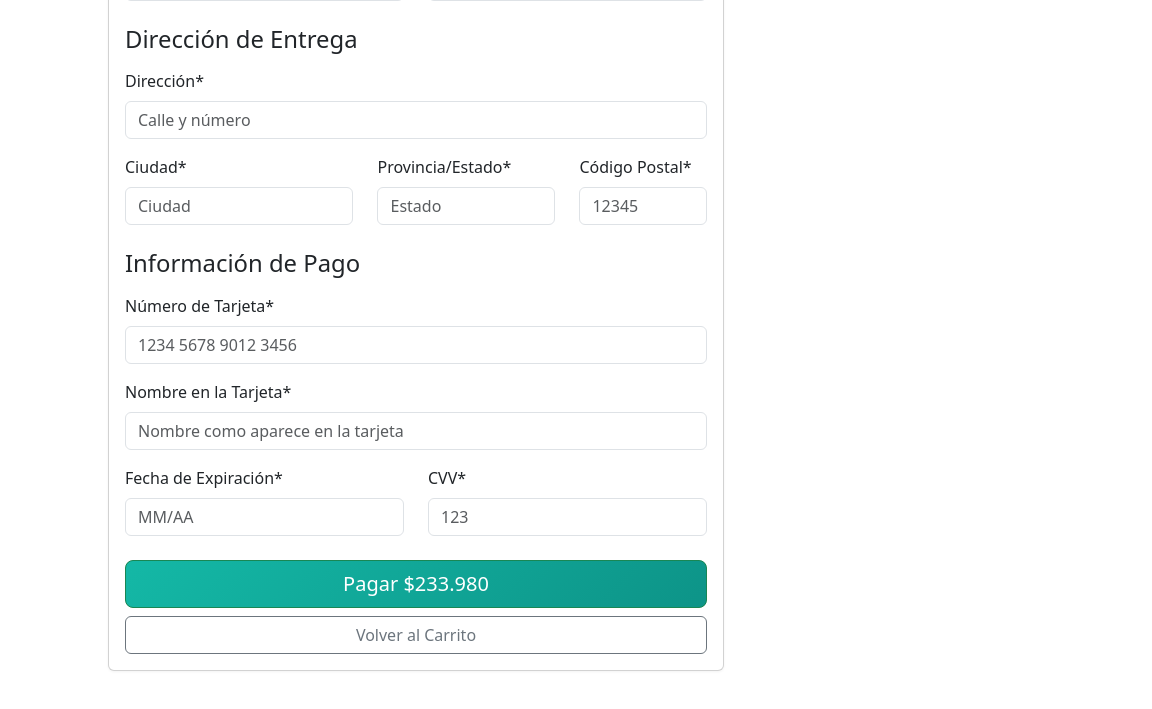
it: Checkout Component › shows validation errors when submitting empty form
(page scrolled)
What coordinates should you click on to do the following:
click the button "Pagar $233.980"
I would click on:
 (416, 584)
Its box is left=125, top=560, right=707, bottom=608.
(page scrolled)
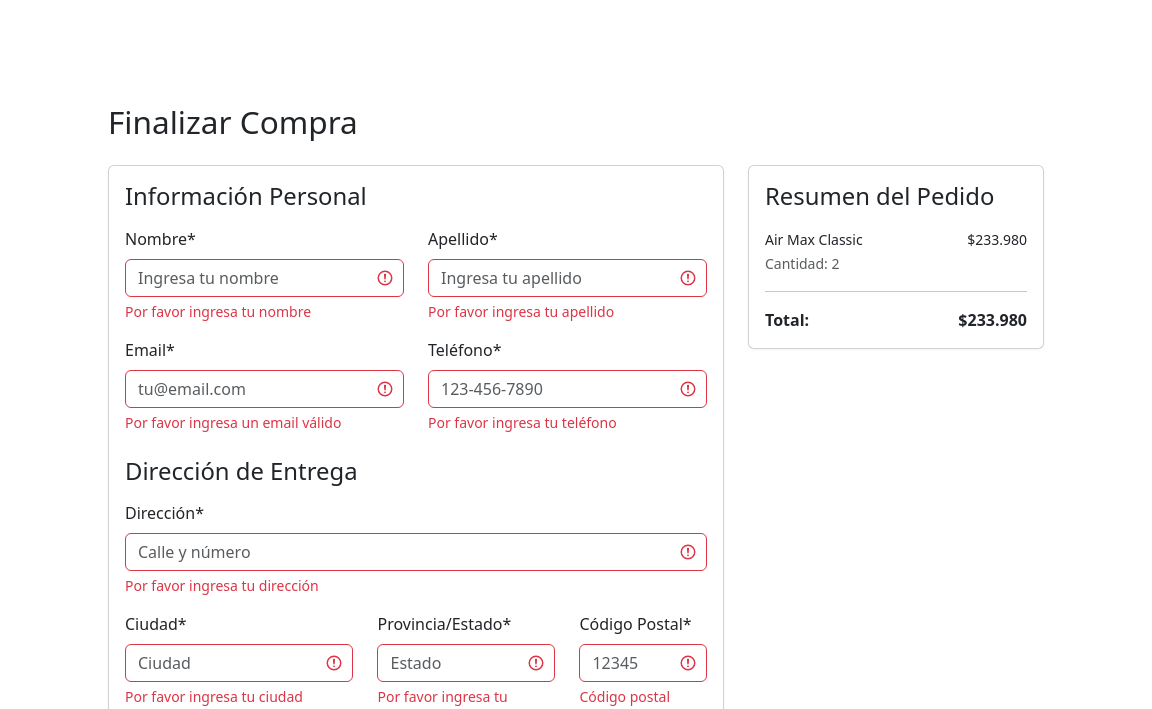
Result: the text "Por favor ingresa tu nombre" is shown at left=125, top=302, right=311, bottom=320
